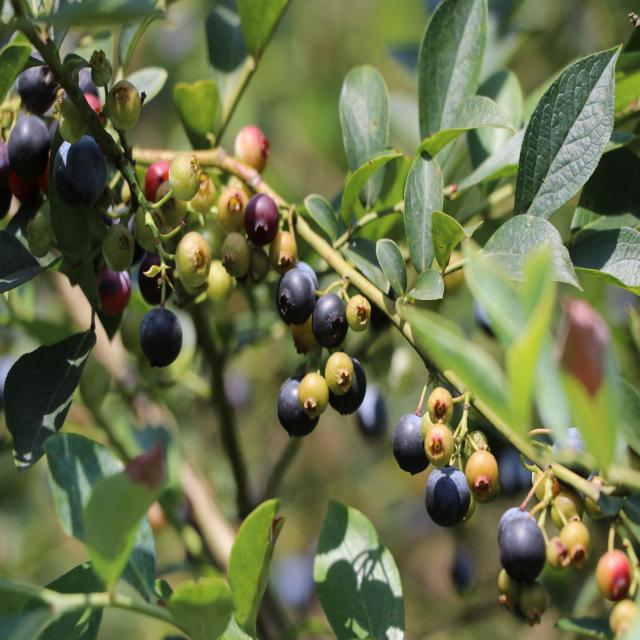blueberry: (51, 129, 110, 211), (493, 502, 548, 581), (419, 462, 476, 532), (6, 106, 51, 187), (137, 300, 184, 374), (274, 370, 324, 438), (14, 48, 61, 118), (390, 412, 436, 477), (239, 190, 283, 252), (327, 352, 369, 416), (311, 286, 350, 348), (280, 263, 318, 325), (137, 247, 178, 304)
blueberry-halfripe: (595, 545, 634, 602), (235, 124, 271, 178), (144, 161, 172, 201)
blueberry-unripe: (172, 230, 214, 287), (103, 80, 145, 130), (462, 448, 500, 502), (165, 147, 202, 201), (423, 418, 458, 469), (101, 220, 135, 271), (220, 232, 250, 280), (560, 519, 593, 562), (216, 183, 248, 227), (530, 456, 560, 498), (550, 491, 584, 528), (344, 290, 371, 334), (583, 472, 609, 516), (25, 218, 53, 258), (427, 384, 454, 424)
